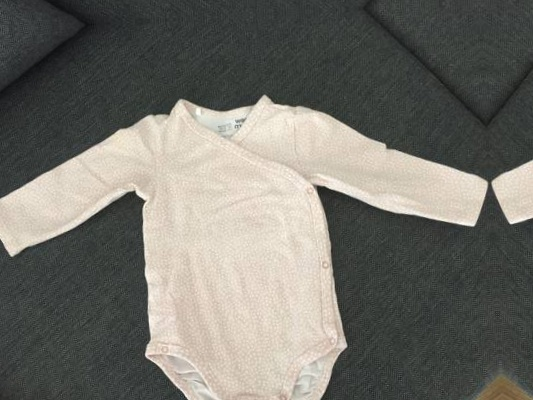Body: (0, 81, 496, 400), (491, 50, 533, 400), (511, 381, 533, 400)
